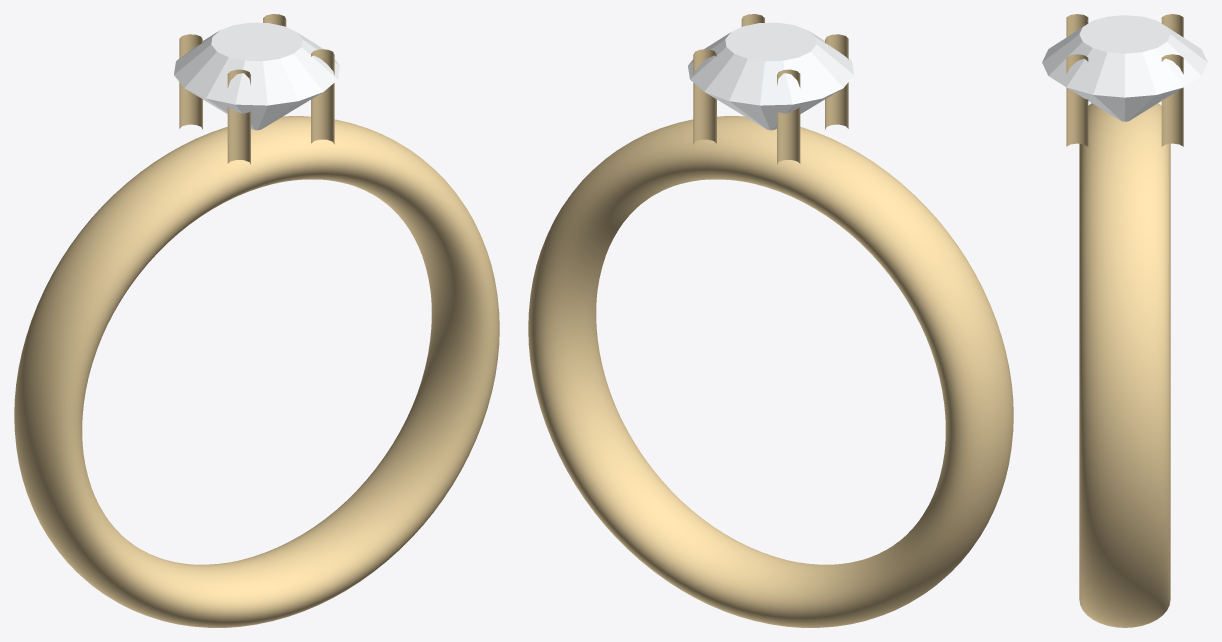
Rendered from ring.glb.
3 renders of one model, left to right at view 1: azimuth 30°, elevation 25°; view 2: azimuth 150°, elevation 25°; view 3: azimuth 270°, elevation 25°, orthographic.
Parts seen in each view (by area): view 1: Band, Stone; view 2: Band, Stone; view 3: Band, Stone.
Boxes of the visible parts, x1,y1,x2,y2 form: Band: [14, 14, 499, 627]; Stone: [174, 22, 339, 130]; Band: [528, 14, 1013, 627]; Stone: [688, 22, 853, 130]; Band: [1066, 14, 1183, 627]; Stone: [1042, 15, 1207, 121].
Bounding box in the file's own units: 0.0206 × 0.0242 × 0.0064.
